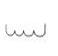inductor: (2, 20, 49, 39)
